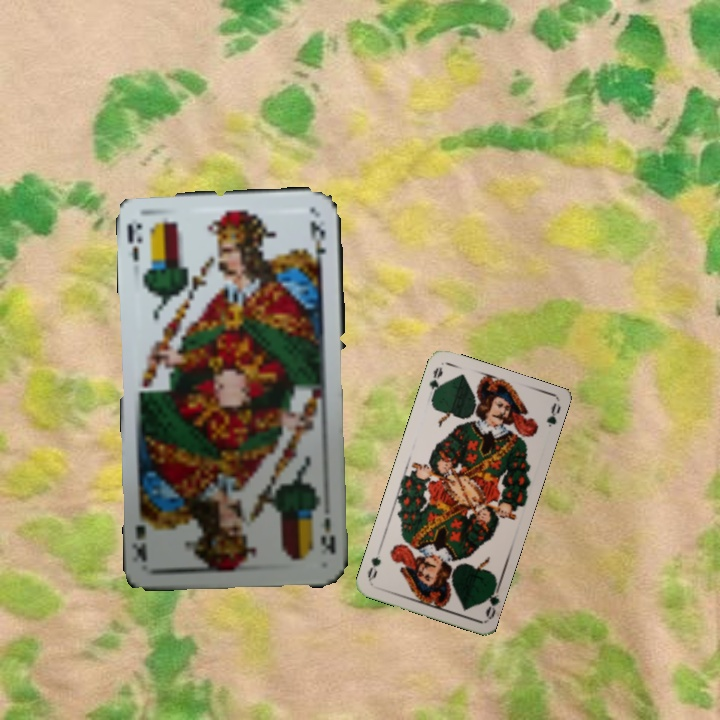EK: (123, 218, 145, 265), (317, 513, 339, 557)
GO: (479, 580, 503, 621), (425, 363, 445, 403)
